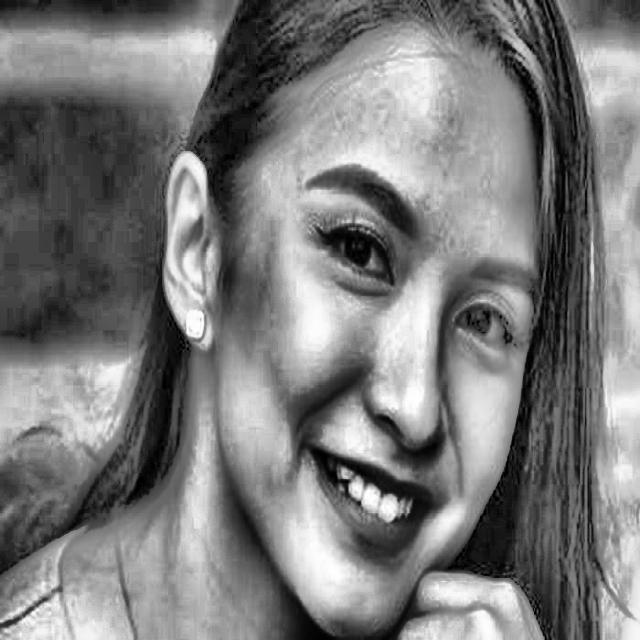happy: (182, 6, 529, 640)
